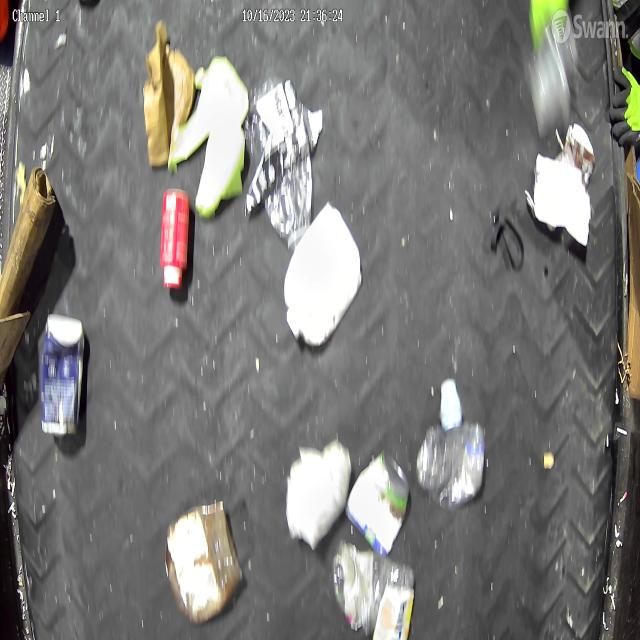can: (344, 448, 410, 556), (40, 312, 86, 437)
milk_jug: (283, 201, 363, 349)
plastic_bottle: (243, 74, 313, 252), (333, 540, 416, 635), (415, 421, 486, 509)
